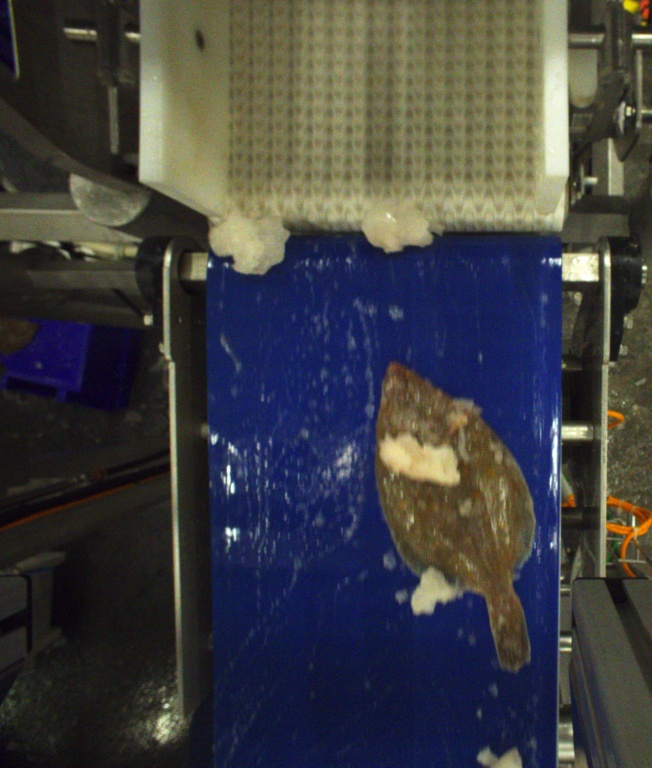PLE: (378, 365, 539, 671)
